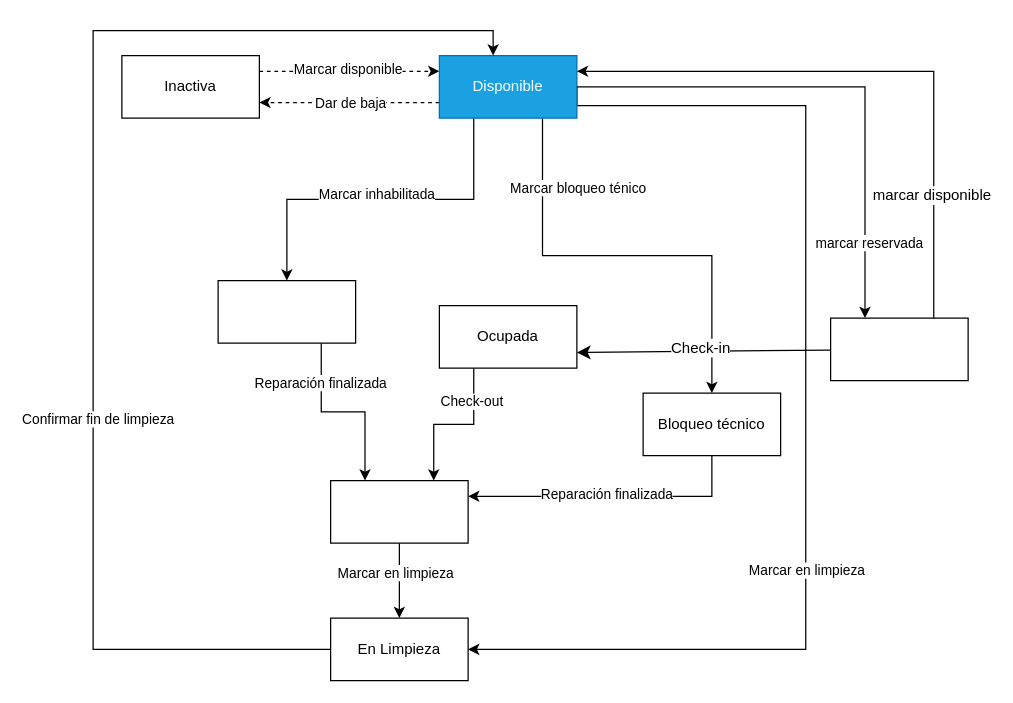
Image size: 1013x703. Some labels were removed from this diagram. The centre of each missing label's shape, as x and y in pixels:
Inhabilitada (por reparaciones): the point at 286,311
Pendiente a limpieza: the point at 398,511
Reservada: the point at 898,349
